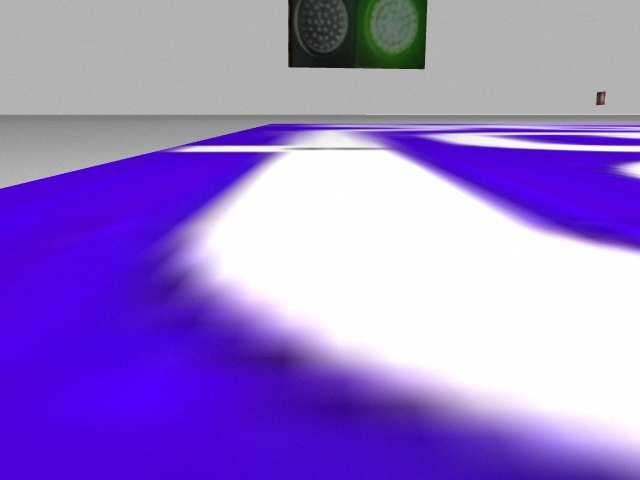green: (356, 1, 429, 71)
